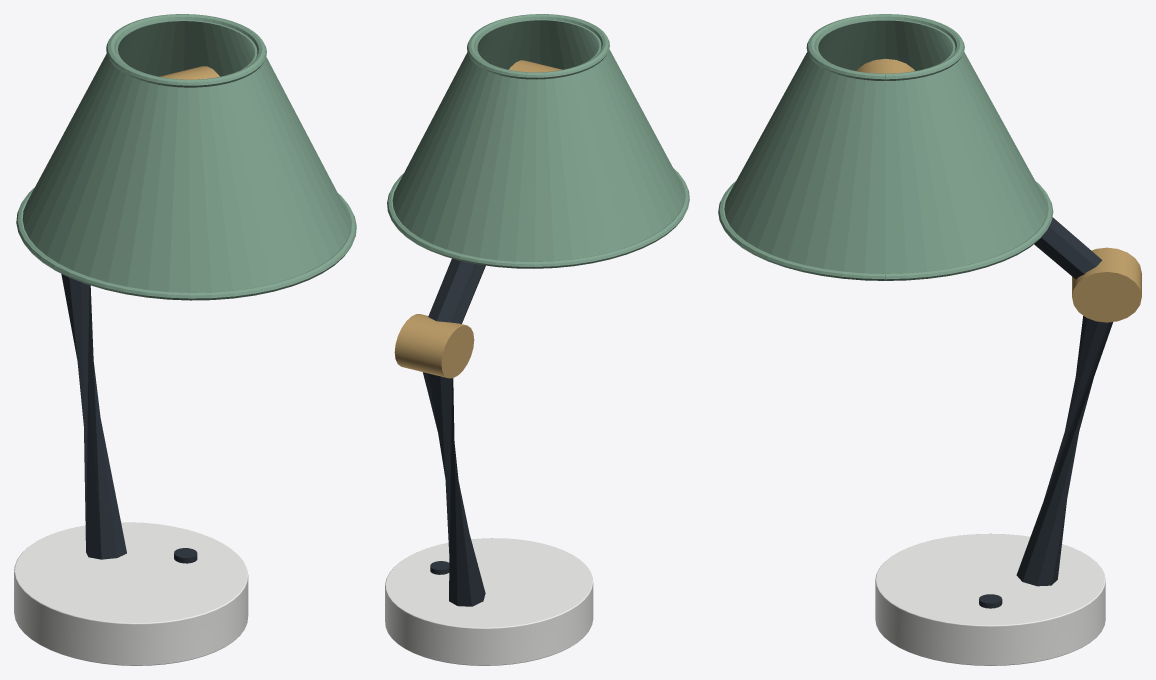
File: apartment-lamp-task.glb
3 renders of one model, left to right at view 1: azimuth 30°, elevation 25°; view 2: azimuth 150°, elevation 25°; view 3: azimuth 270°, elevation 25°, orthographic. The views are drawn at different scales.
Visible parts, largest first — view 1: catalog_surface_RealismUV; view 2: catalog_surface_RealismUV; view 3: catalog_surface_RealismUV.
Boxes of the visible parts, box(x1,y1,x2,y2) form: catalog_surface_RealismUV: box(14, 14, 356, 665); catalog_surface_RealismUV: box(385, 14, 689, 665); catalog_surface_RealismUV: box(718, 14, 1141, 665).
Size of the model in its own units: 0.18 by 0.36 by 0.24.
